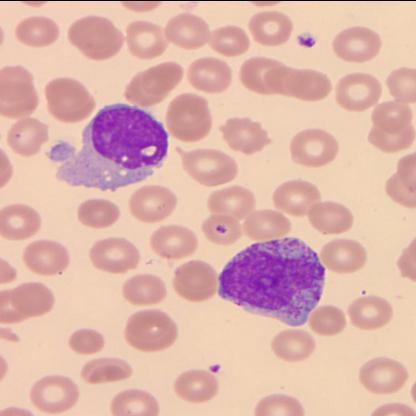Promyelocyte: (51, 100, 170, 190), (220, 236, 328, 324)
